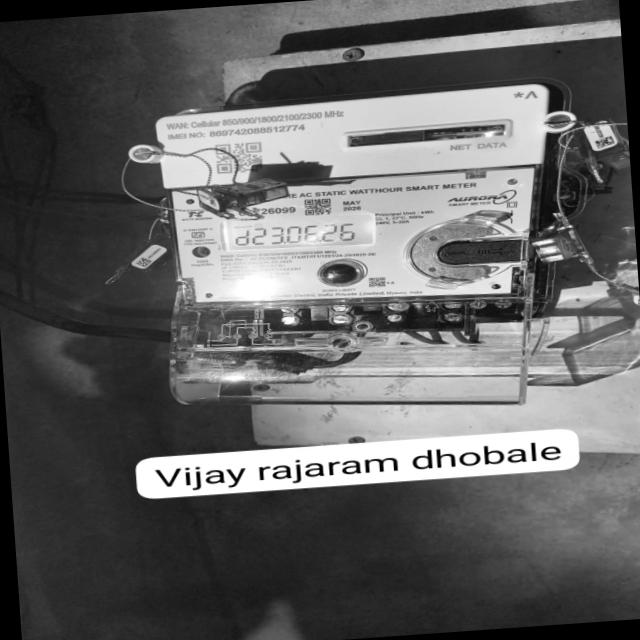meter: (154, 87, 548, 320)
